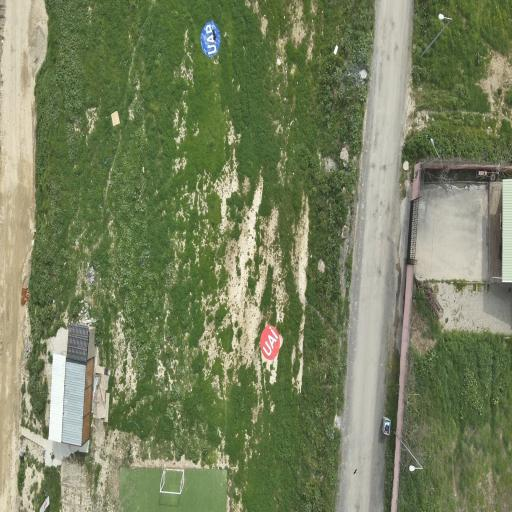UAI: (261, 326, 280, 360)
UAP: (201, 21, 220, 57)
person: (213, 29, 216, 41)
